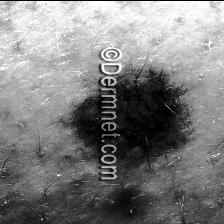Potentially Malignant Skin Tumors: (119, 63, 186, 173), (68, 87, 102, 157)
